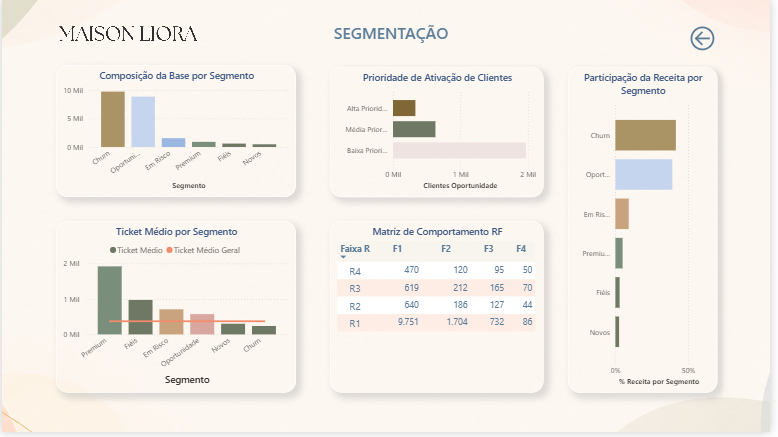

This screenshot's page, from the dashboard's own definition file:
{"tool":"powerbi","page":{"name":"Segmentação","canvas":[1280,720],"ordinal":1},"visuals":[{"type":"clusteredColumnChart","title":"Composição da Base por Segmento","fields":{"Category":["DimCliente.Segmento"],"Y":["#Medidas.TOTAL de Clientes"]},"box":[90.3,108.4,400.3,219.6],"z":0},{"type":"clusteredBarChart","title":"Participação da Receita por Segmento","fields":{"Category":["DimCliente.Segmento"],"Y":["#Medidas.% Receita por Segmento"]},"box":[943.8,111.2,248.8,543.5],"z":1000},{"type":"lineClusteredColumnComboChart","title":"Ticket Médio por Segmento","fields":{"Y":["#Medidas.Ticket Médio"],"Category":["DimCliente.Segmento"],"Y2":["#Medidas.Ticket Médio Geral"]},"box":[90.4,368.3,400.3,286.3],"z":2000},{"type":"clusteredBarChart","title":"Prioridade de Ativação de Clientes","fields":{"Y":["#Med. Segmento.Clientes Oportunidade"],"Category":["DimCliente.Score Ativação Final"]},"box":[546.3,111.2,355.8,216.8],"z":3000},{"type":"pivotTable","title":"Matriz de Comportamento RF","fields":{"Rows":["DimCliente.Faixa R"],"Columns":["DimCliente.Faixa F"],"Values":["#Medidas.Clientes"]},"box":[546.3,368.3,355.8,286.3],"z":4000},{"type":"image","box":[0,27.1,420,75.7],"z":5000},{"type":"actionButton","box":[1141.2,37.5,65.3,51.4],"z":6000},{"type":"textbox","title":"SEGMENTAÇÃO","box":[382.2,36.1,533.7,72.3],"z":7000}]}

Visuals, with their boxes in screenshot pixels (x1, y1, x2, y2), scaled from the page's 1280x720 canvas onto the 778x437 screenshot:
"Composição da Base por Segmento" clusteredColumnChart: [x1=55, y1=66, x2=298, y2=199]
"Participação da Receita por Segmento" clusteredBarChart: [x1=574, y1=67, x2=725, y2=397]
"Ticket Médio por Segmento" lineClusteredColumnComboChart: [x1=55, y1=224, x2=298, y2=397]
"Prioridade de Ativação de Clientes" clusteredBarChart: [x1=332, y1=67, x2=548, y2=199]
"Matriz de Comportamento RF" pivotTable: [x1=332, y1=224, x2=548, y2=397]
image: [x1=0, y1=16, x2=255, y2=62]
actionButton: [x1=694, y1=23, x2=733, y2=54]
"SEGMENTAÇÃO" textbox: [x1=232, y1=22, x2=557, y2=66]
